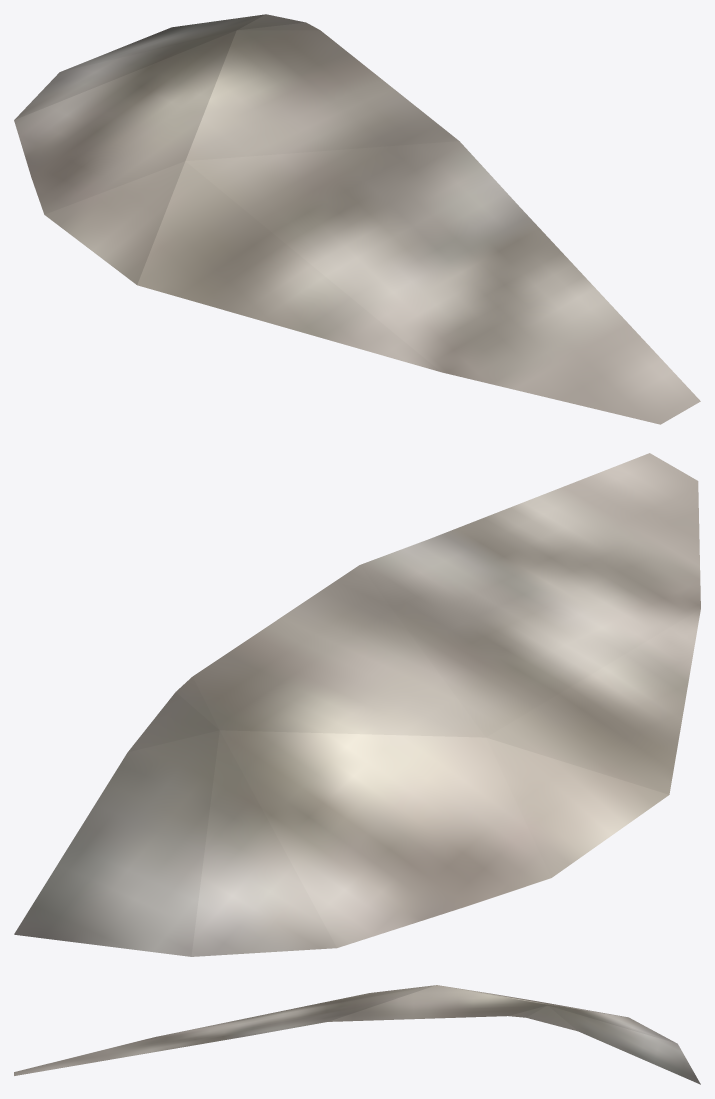
3 views of the same model, one above another, from view 1: azimuth 30°, elevation 25°; view 2: azimuth 150°, elevation 25°; view 3: azimuth 270°, elevation 25° (orthographic). The views are drawn at different scales.
Size of the model in its own units: 0.0472 by 0.0165 by 0.1493.
1 material, 1 textured.
